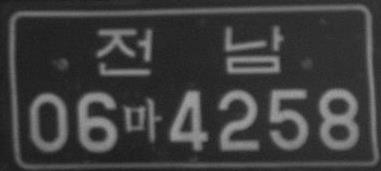0: (28, 91, 69, 153)
2: (217, 88, 261, 154)
4: (168, 89, 210, 152)
5: (269, 86, 309, 151)
6: (76, 90, 119, 154)
8: (317, 87, 361, 152)
마: (121, 96, 163, 144)
전남_D: (96, 23, 285, 81)
